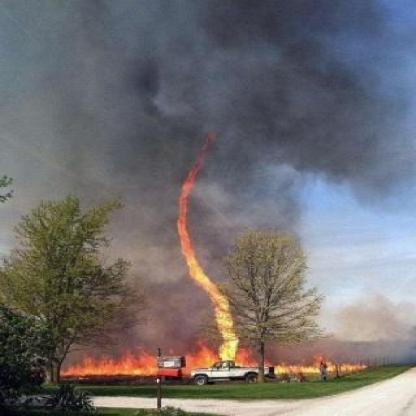fire: (168, 115, 260, 375), (61, 337, 368, 385)
smoke: (12, 2, 392, 234)
